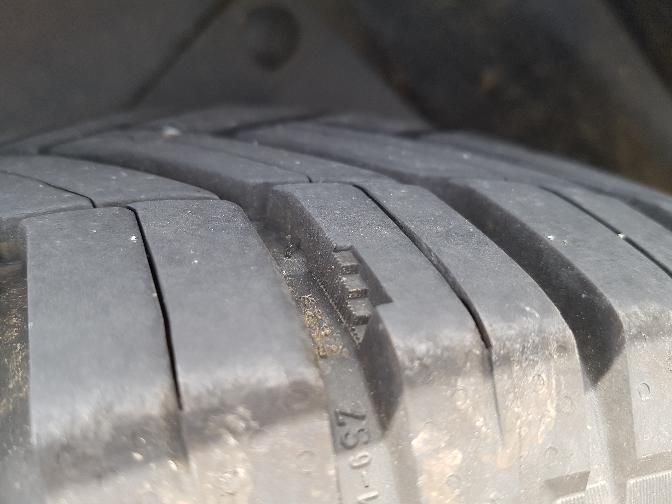temoin:90: (310, 228, 401, 356)
